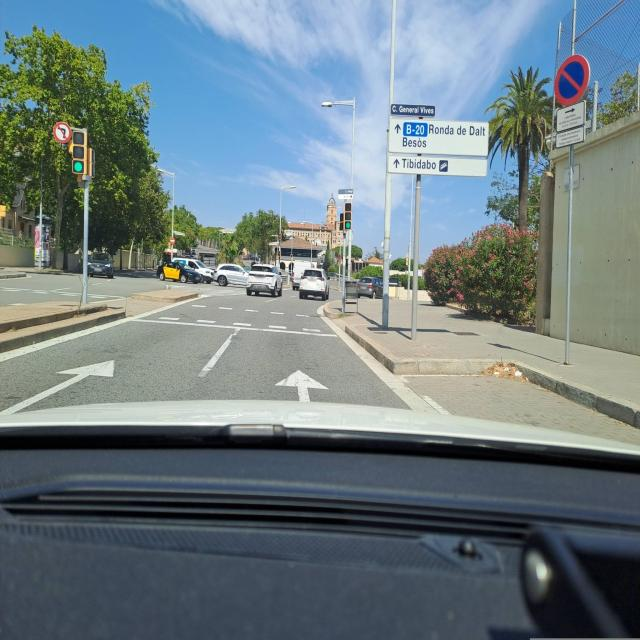forb_stopping: (555, 55, 590, 106)
